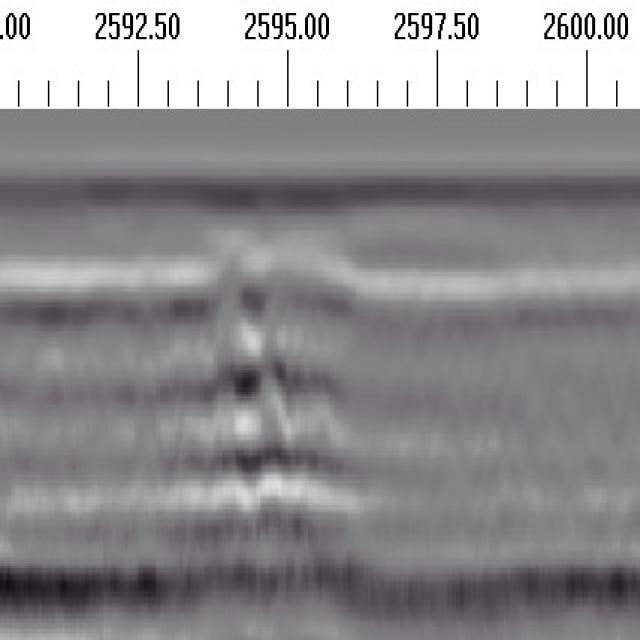loose: (151, 258, 341, 502)
